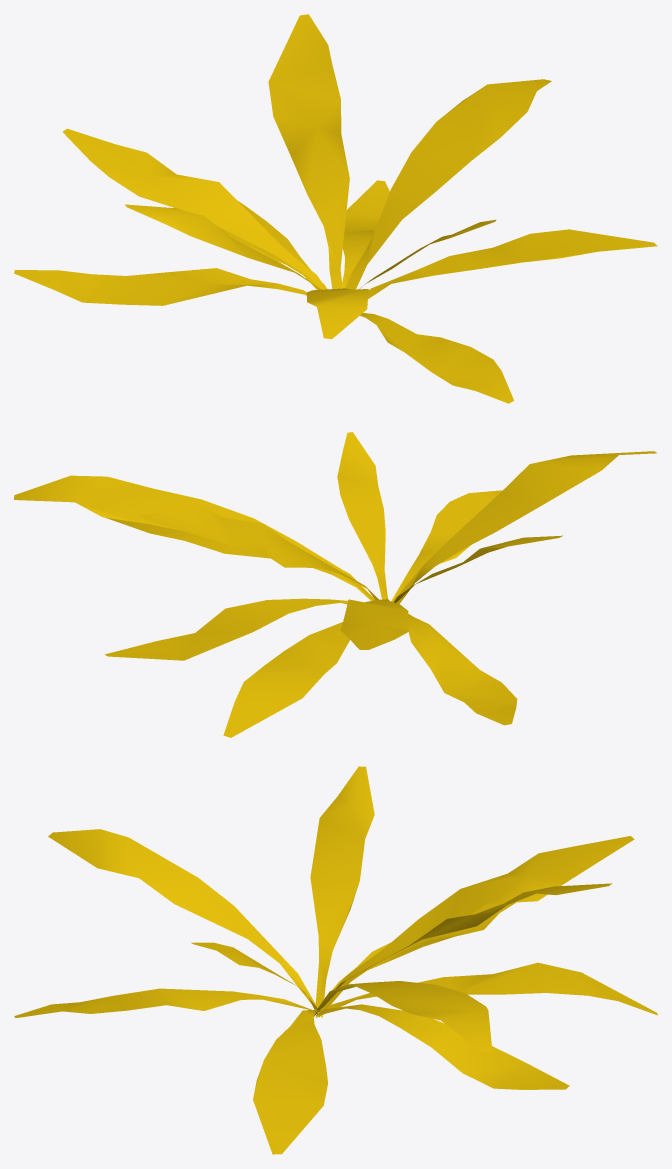
The model's file is PS_Level1_ThornyWeed02.fbx.
3 renders of one model, top to bottom at view 1: azimuth 30°, elevation 25°; view 2: azimuth 150°, elevation 25°; view 3: azimuth 270°, elevation 25°, orthographic. The views are drawn at different scales.
Visible parts, largest first — view 1: PS_Level1_ThornyWeed2_LOD0; view 2: PS_Level1_ThornyWeed2_LOD0; view 3: PS_Level1_ThornyWeed2_LOD0.
Part boxes in pixels (bbox=[...]): PS_Level1_ThornyWeed2_LOD0: bbox=[14, 14, 657, 403]; PS_Level1_ThornyWeed2_LOD0: bbox=[14, 432, 657, 737]; PS_Level1_ThornyWeed2_LOD0: bbox=[14, 766, 657, 1154].
Size of what is drawn, in the model's own units: 31.76 by 10.24 by 32.2.
